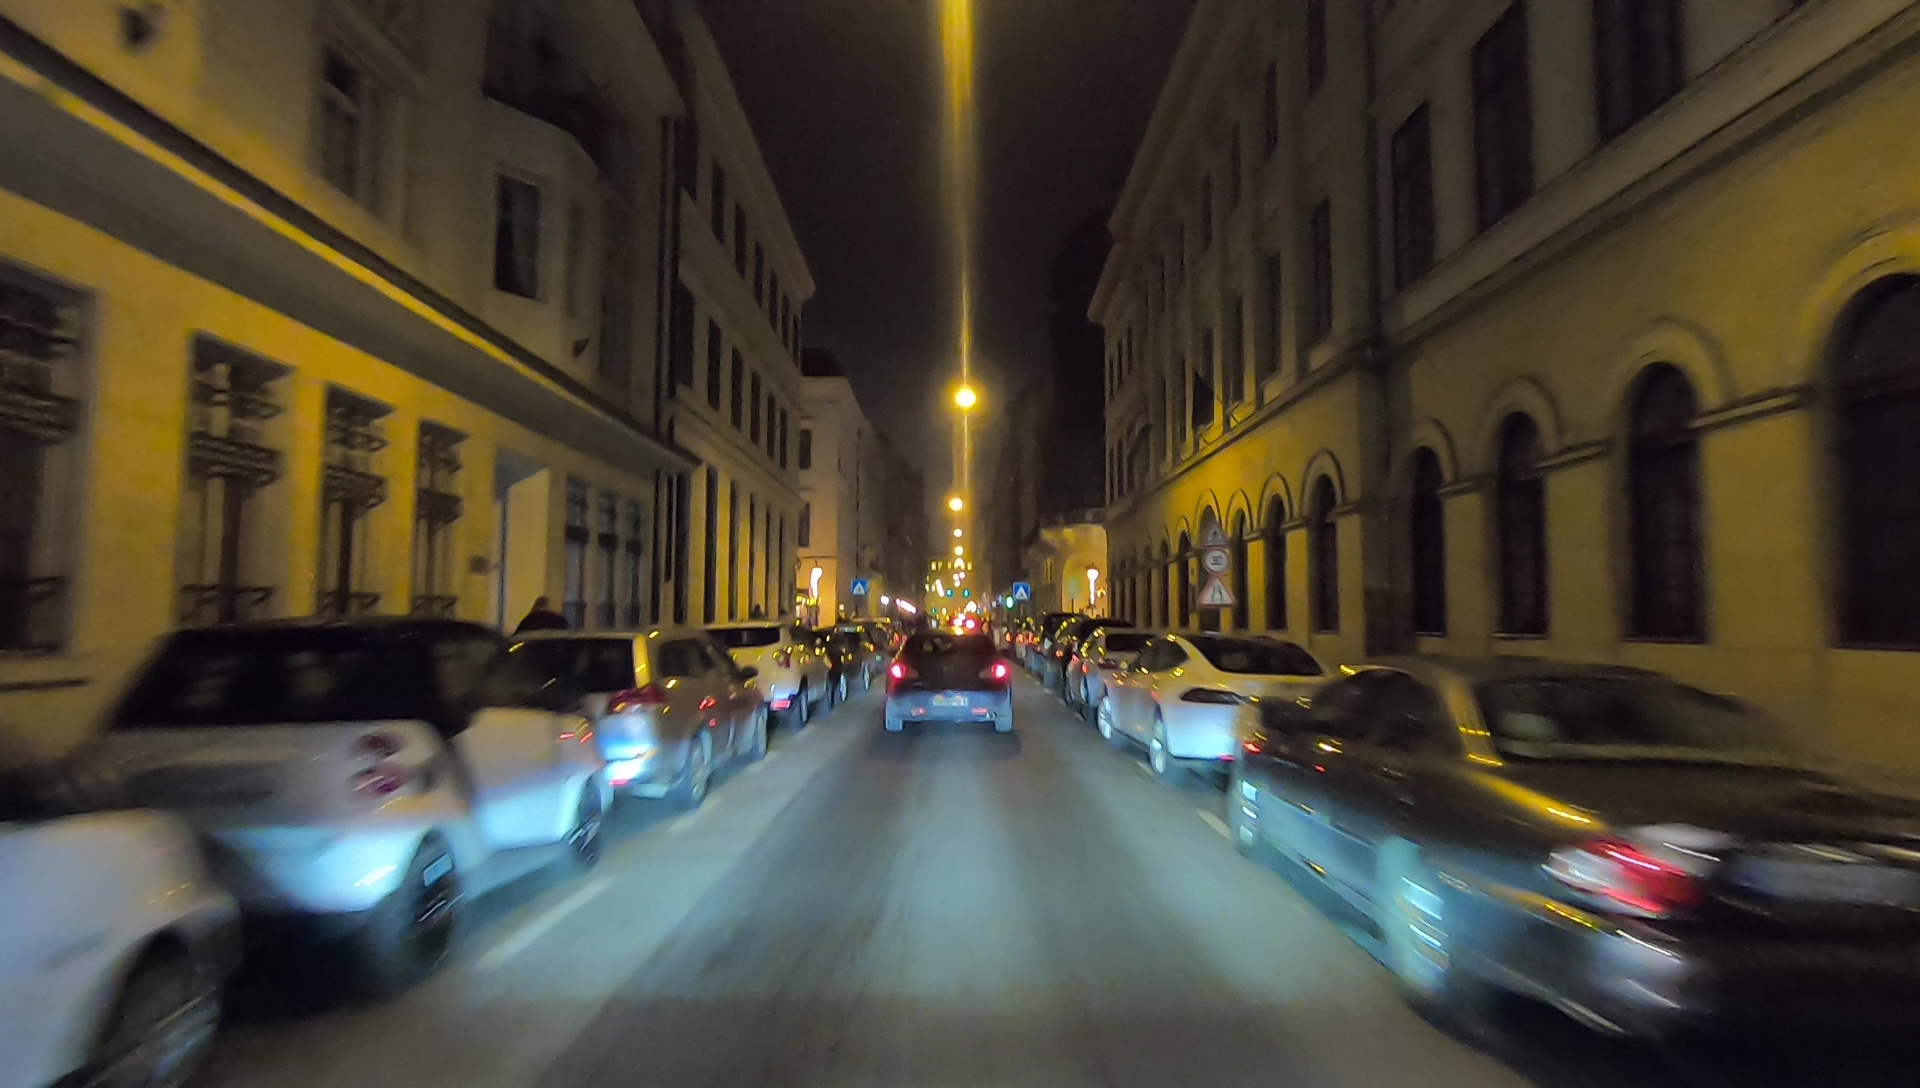person: (519, 597, 567, 706)
